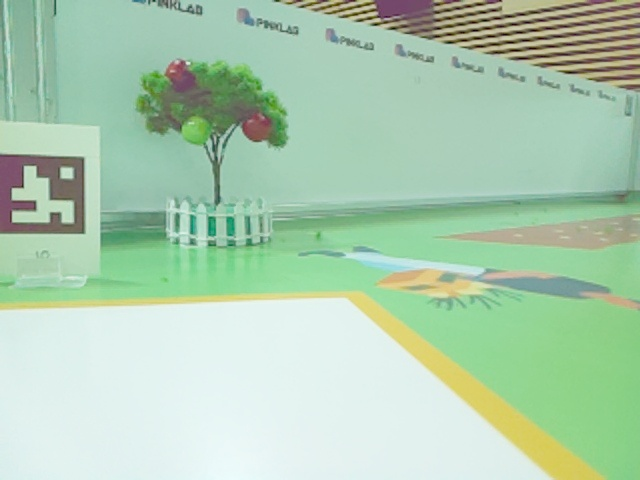apple: (243, 114, 270, 140), (167, 62, 184, 80)
